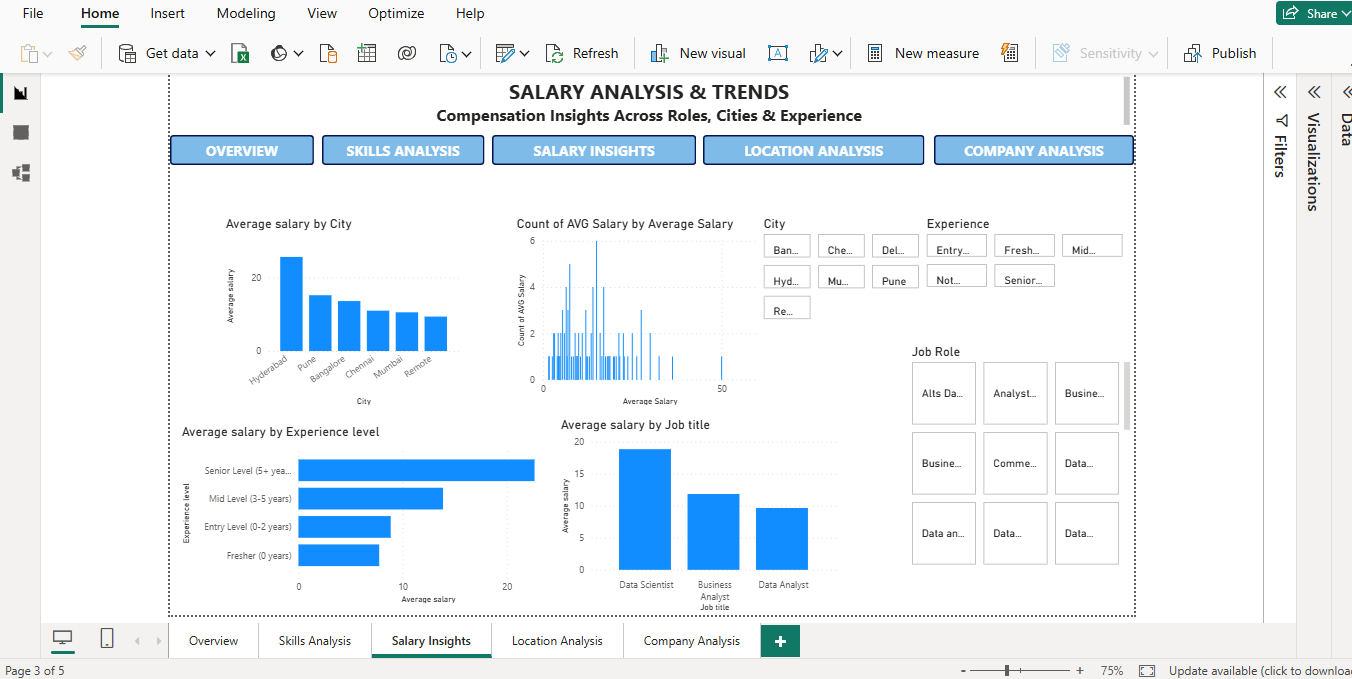

The dashboard page shown, as its layout file describes it:
{"tool":"powerbi","page":{"name":"Salary Insights","canvas":[1280,720],"ordinal":2},"visuals":[{"type":"clusteredColumnChart","fields":{"Category":["cleaned_jobs.primary_city"],"Y":["Avg(cleaned_jobs.salary_avg_lpa)"]},"box":[68.8,190.2,399.5,414.1],"z":0},{"type":"clusteredBarChart","fields":{"Category":["cleaned_jobs.experience_level"],"Y":["Avg(cleaned_jobs.salary_avg_lpa)"]},"box":[10,445.7,518.6,264.3],"z":1000},{"type":"clusteredColumnChart","fields":{"Category":["cleaned_jobs.job_title_clean"],"Y":["Avg(cleaned_jobs.salary_avg_lpa)"]},"box":[512.9,445.7,378.6,264.3],"z":2000},{"type":"columnChart","fields":{"Category":["cleaned_jobs.salary_avg_lpa"],"Y":["CountNonNull(cleaned_jobs.salary_avg_lpa)"]},"box":[453.7,190.2,545.9,414.1],"z":3000},{"type":"advancedSlicerVisual","fields":{"Values":["cleaned_jobs.experience_level"]},"box":[1000,190,270,140],"z":4000},{"type":"advancedSlicerVisual","fields":{"Values":["cleaned_jobs.job_title_clean"]},"box":[980,360,300,300],"z":5000},{"type":"advancedSlicerVisual","fields":{"Values":["cleaned_jobs.primary_city"]},"box":[809.3,218,216.6,142],"z":6000},{"type":"group","id":"g1","title":"Group 1","box":[0,82,1280.5,39.5],"z":7000},{"type":"textbox","box":[0,0,1280.5,82],"z":8000},{"type":"actionButton","box":[201.4,82,215.7,40],"z":9000,"group":"g1"},{"type":"actionButton","box":[427.1,82,271.4,40],"z":10000,"group":"g1"},{"type":"actionButton","box":[708.6,82,294.3,40],"z":11000,"group":"g1"},{"type":"actionButton","box":[1014.3,82,265.7,40],"z":12000,"group":"g1"},{"type":"actionButton","box":[0,82,191.4,40],"z":13000,"group":"g1"}]}

Visuals, with their boxes on the page's 1280x720 design canvas (x1, y1, x2, y2). These are canvas units, not pixel positions in the 1352x679 screenshot, which may show the page scaled, cropped or inside an application window:
clusteredColumnChart - cleaned_jobs.primary_city x Avg(cleaned_jobs.salary_avg_lpa): (left=69, top=190, right=468, bottom=604)
clusteredBarChart - cleaned_jobs.experience_level x Avg(cleaned_jobs.salary_avg_lpa): (left=10, top=446, right=529, bottom=710)
clusteredColumnChart - cleaned_jobs.job_title_clean x Avg(cleaned_jobs.salary_avg_lpa): (left=513, top=446, right=892, bottom=710)
columnChart - cleaned_jobs.salary_avg_lpa x CountNonNull(cleaned_jobs.salary_avg_lpa): (left=454, top=190, right=1000, bottom=604)
advancedSlicerVisual - cleaned_jobs.experience_level: (left=1000, top=190, right=1270, bottom=330)
advancedSlicerVisual - cleaned_jobs.job_title_clean: (left=980, top=360, right=1280, bottom=660)
advancedSlicerVisual - cleaned_jobs.primary_city: (left=809, top=218, right=1026, bottom=360)
"Group 1" group: (left=0, top=82, right=1280, bottom=122)
textbox: (left=0, top=0, right=1280, bottom=82)
actionButton: (left=201, top=82, right=417, bottom=122)
actionButton: (left=427, top=82, right=698, bottom=122)
actionButton: (left=709, top=82, right=1003, bottom=122)
actionButton: (left=1014, top=82, right=1280, bottom=122)
actionButton: (left=0, top=82, right=191, bottom=122)
